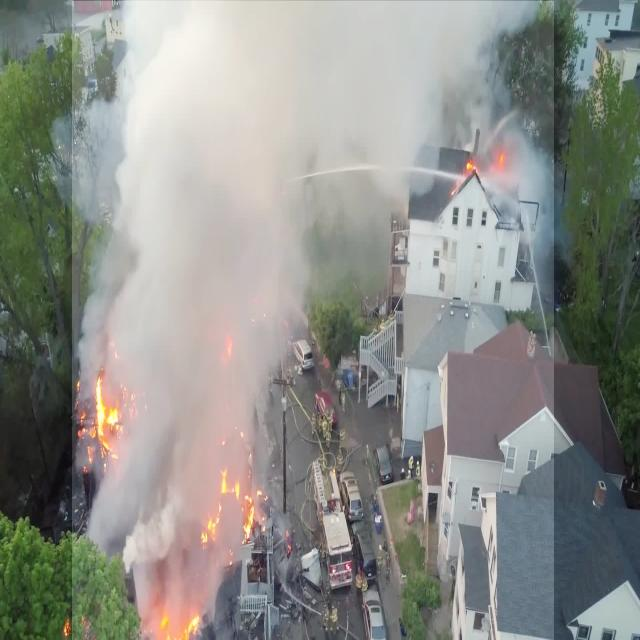Fire: (69, 339, 278, 640), (452, 142, 527, 216)
Smoke: (72, 1, 554, 640)
